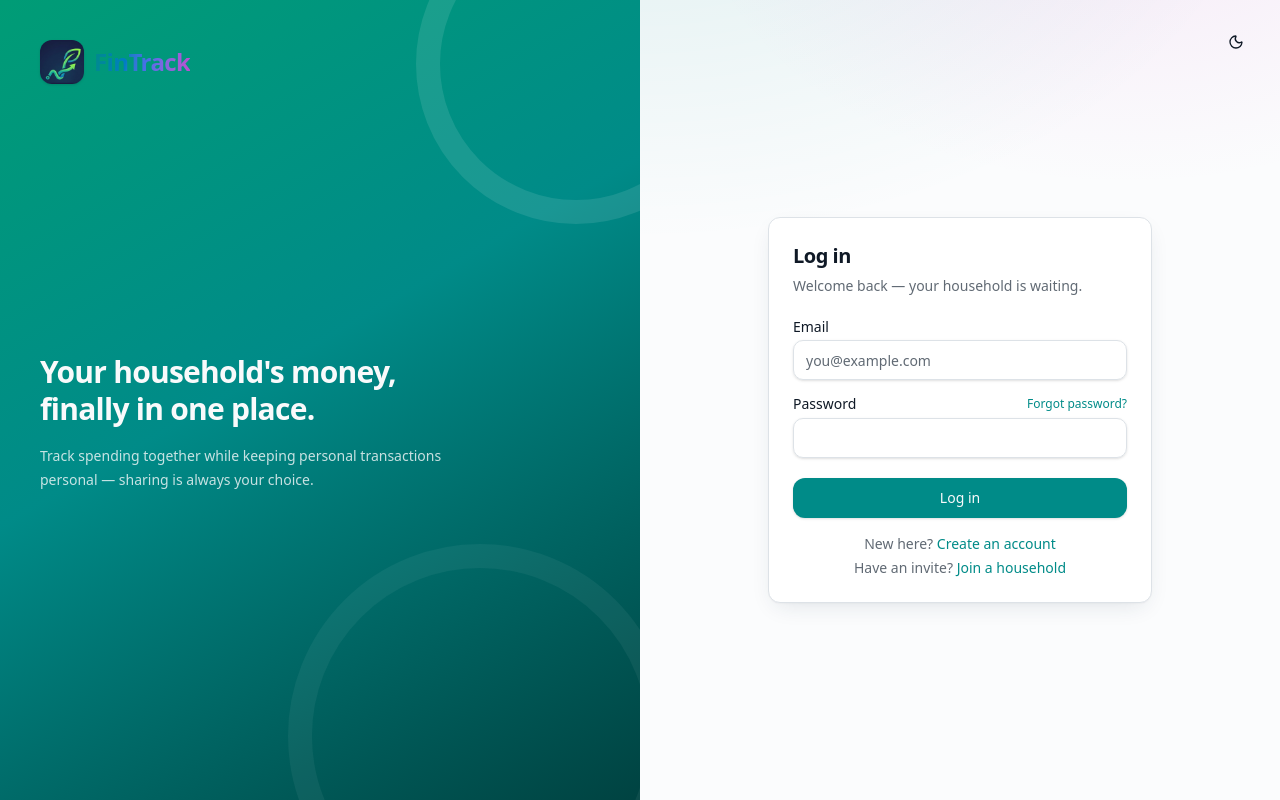
Test: LoginPage › shows the throttle message on 429
The width and height of the screenshot is (1280, 800).
In the field labelled "Email": coordinates (960, 360) [793,340,1127,380], type "jane@example.com"
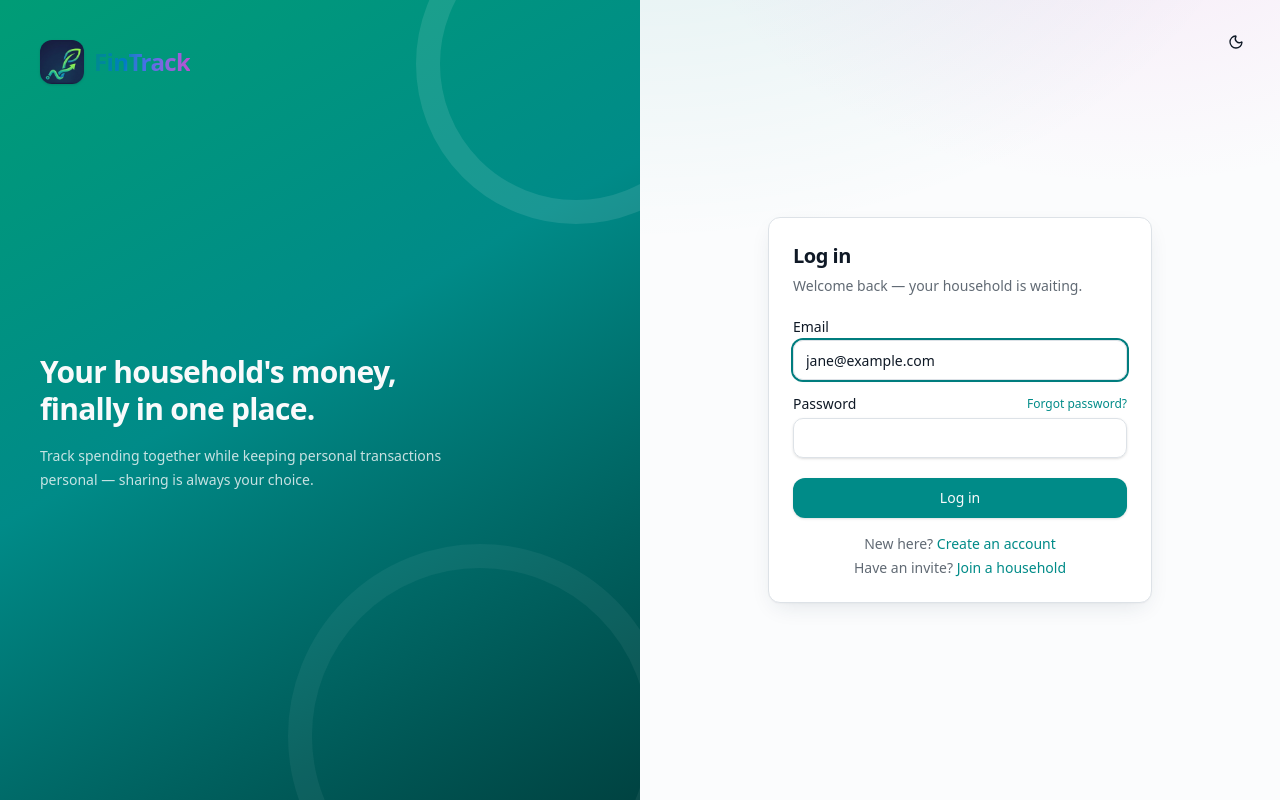
In the password field labelled "Password": coordinates (960, 438) [793,418,1127,458], type "whatever-password"
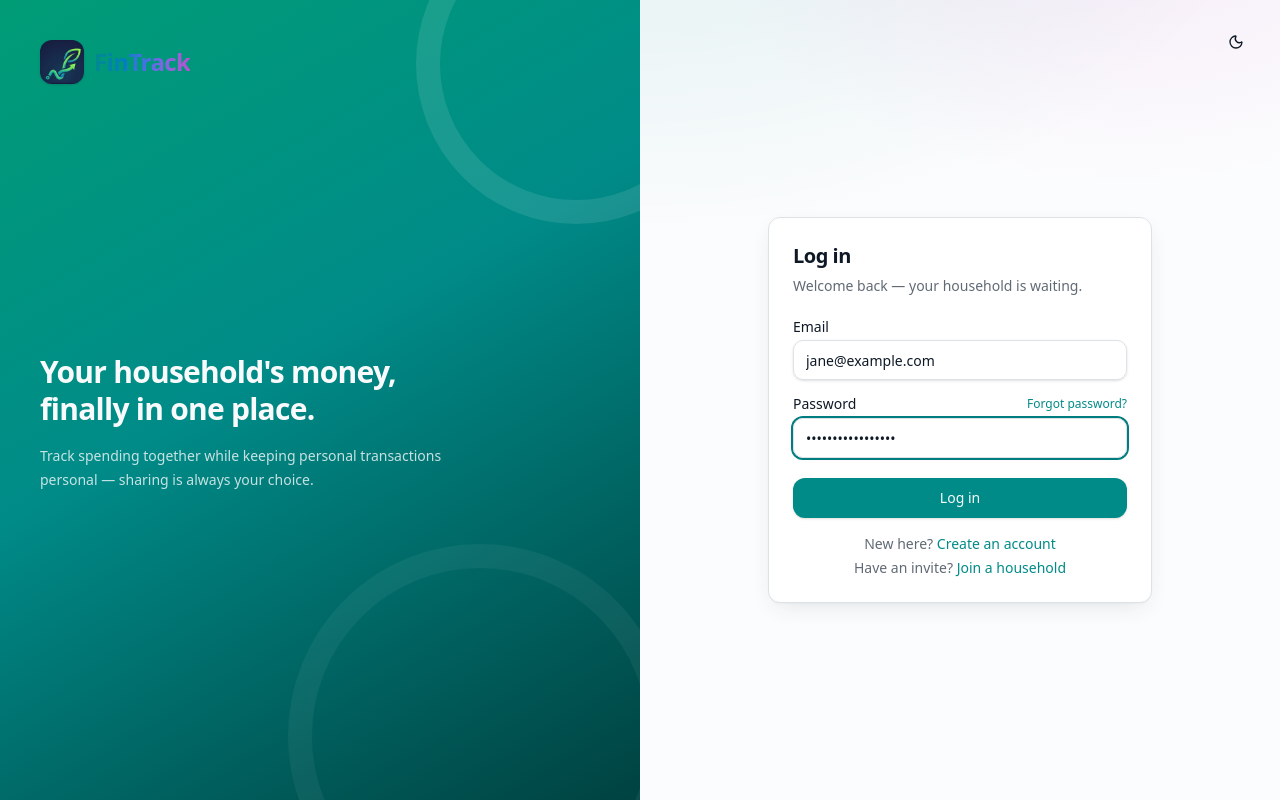
Click the button "Log in": coordinates (960, 498) [793,478,1127,518]
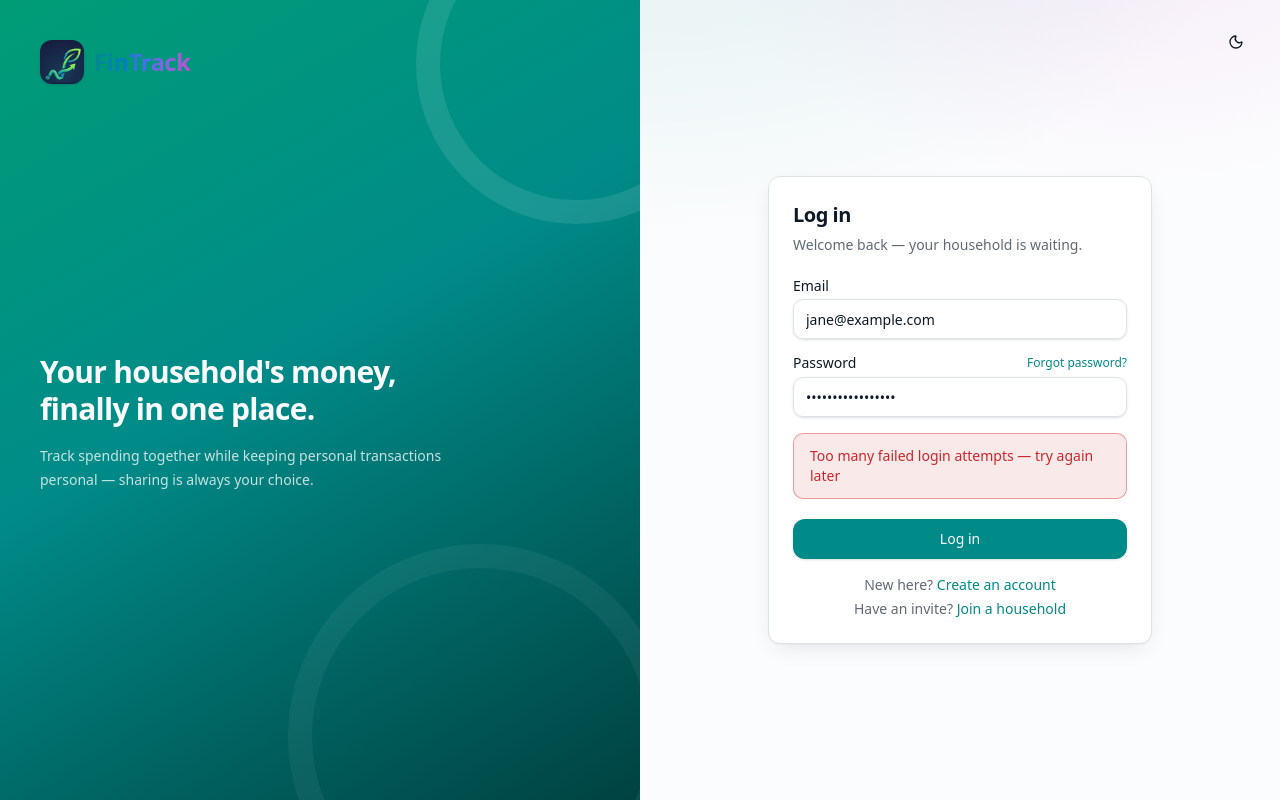
Now the text "Too many failed login attempts — try again later" is shown, box [793,433,1127,499]
